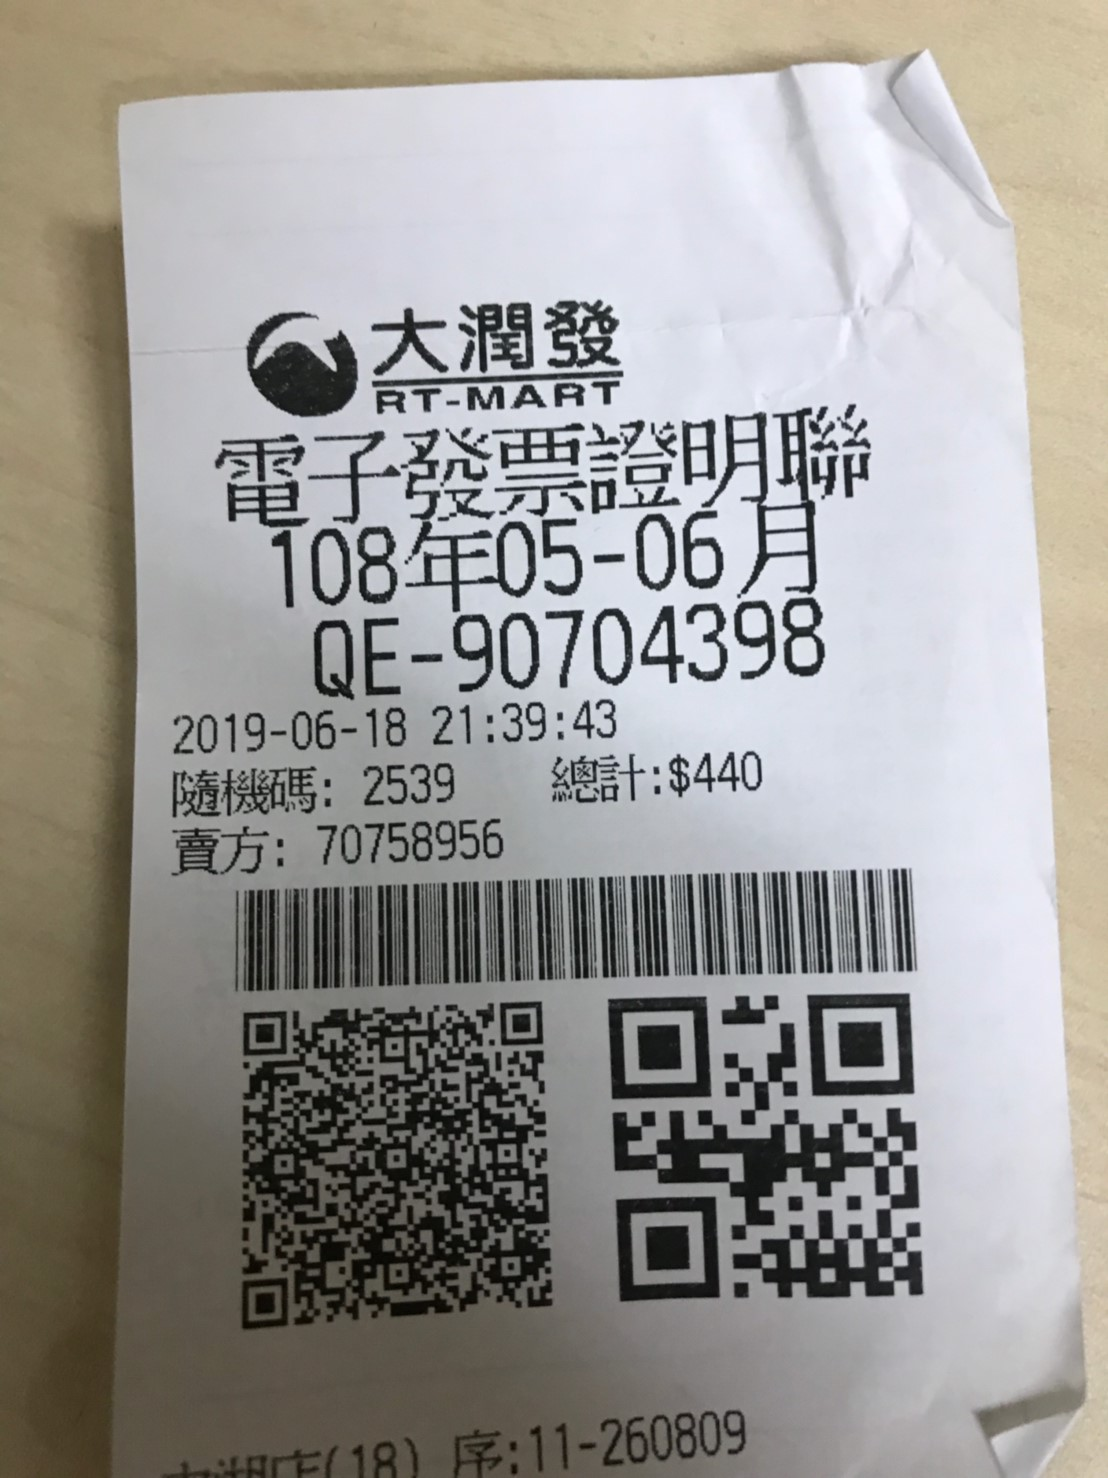Date_New: (271, 498, 823, 607)
Number_New: (452, 597, 824, 695)
